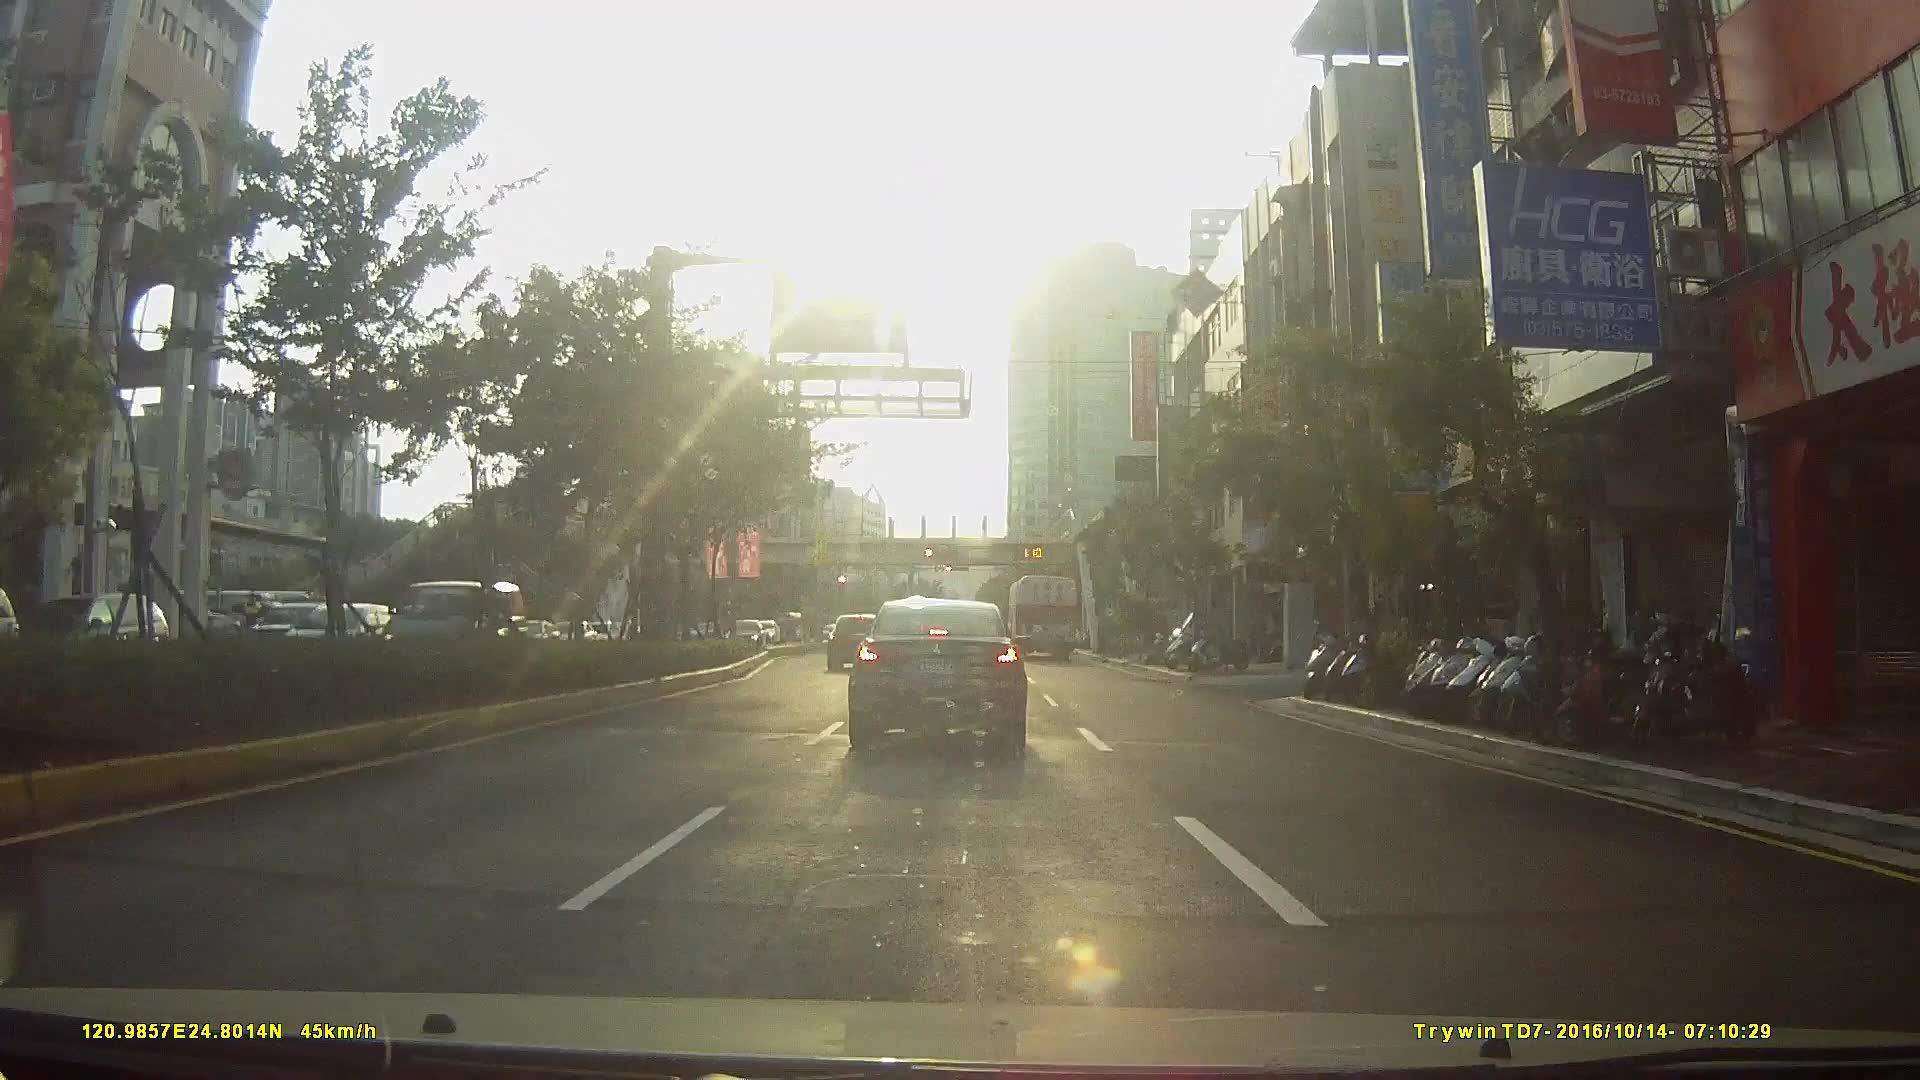vehicle: (847, 596, 1027, 757), (375, 578, 526, 676), (18, 591, 161, 669), (1004, 572, 1080, 662), (823, 608, 886, 669), (719, 616, 762, 651)
